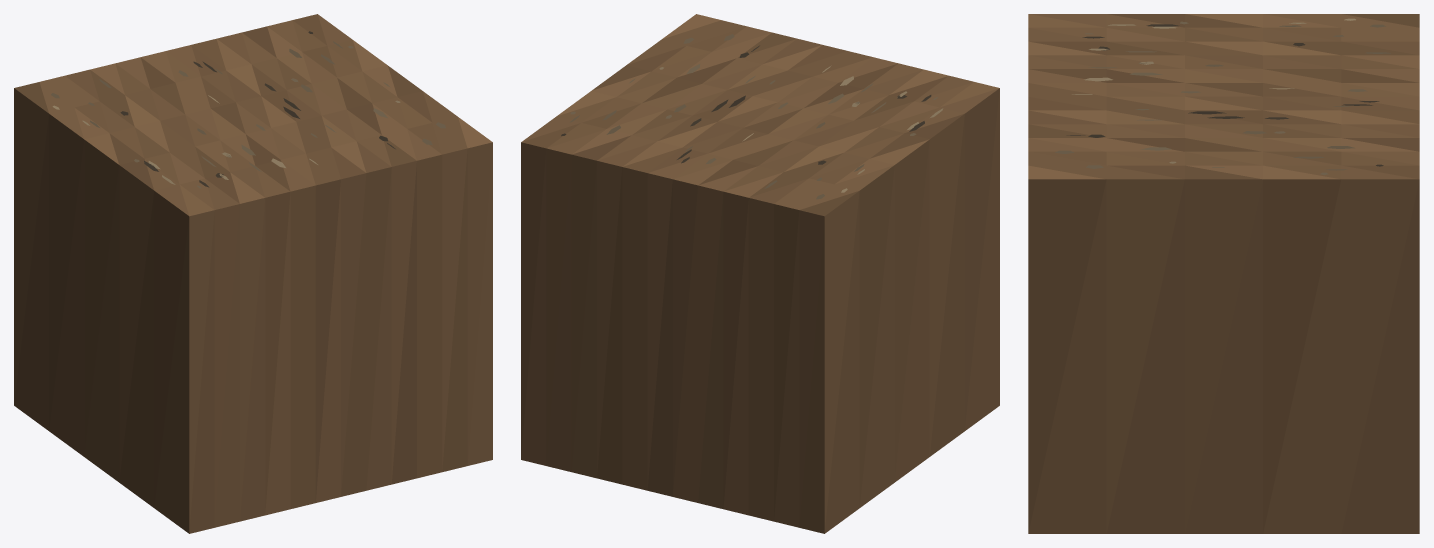
Rendered from terrain-path-b88b5e.glb.
3 views of the same model, side by side, from view 1: azimuth 30°, elevation 25°; view 2: azimuth 150°, elevation 25°; view 3: azimuth 270°, elevation 25° (orthographic). The views are drawn at different scales.
Parts seen in each view (by area): view 1: terrain-path-b88b5e; view 2: terrain-path-b88b5e; view 3: terrain-path-b88b5e.
Part boxes in pixels (left/top/right/bottom): terrain-path-b88b5e: left=14, top=14, right=492, bottom=533; terrain-path-b88b5e: left=521, top=14, right=999, bottom=533; terrain-path-b88b5e: left=1028, top=14, right=1419, bottom=533.
Bounding box in the file's own units: 1 × 1 × 1.
